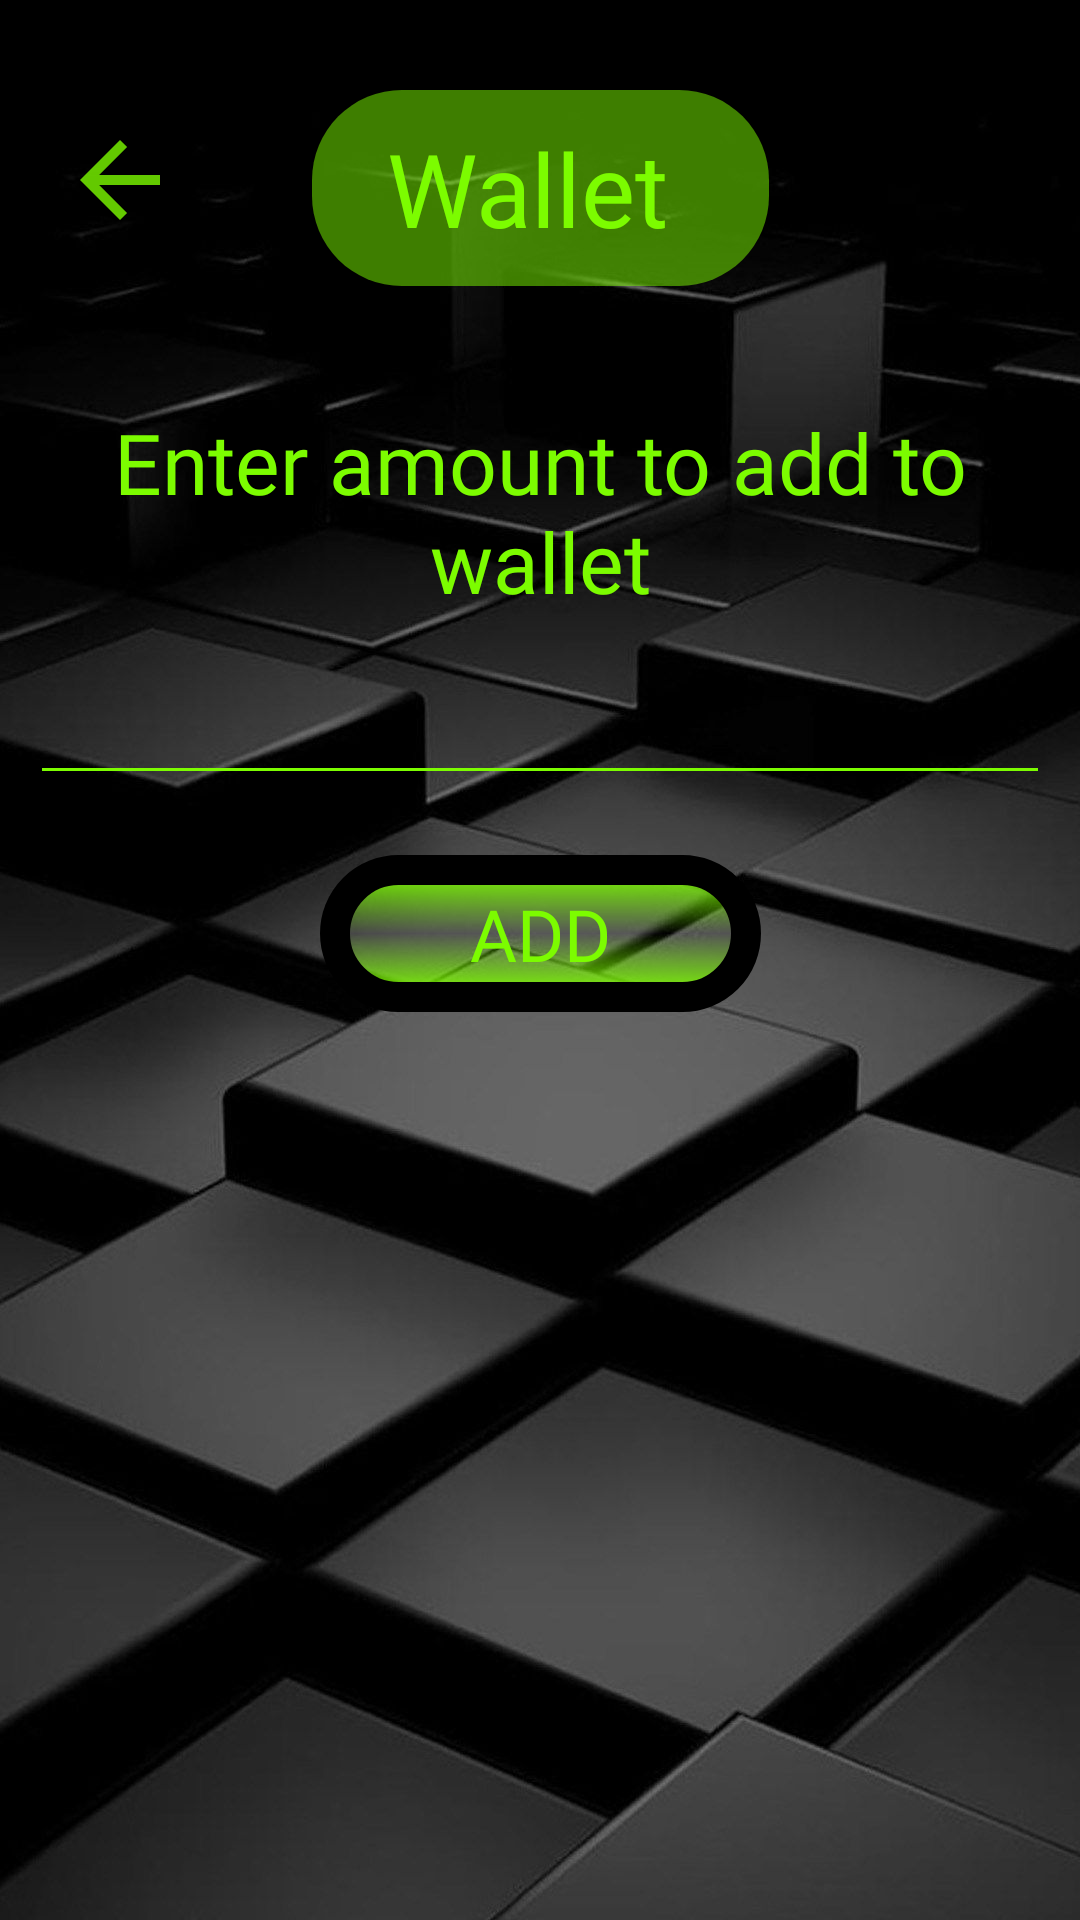

Icons on this 1080x1920 Android screen, each with its box as bbox=[x1, y1, x2, y2]:
left arrow: bbox=[80, 140, 160, 236]
